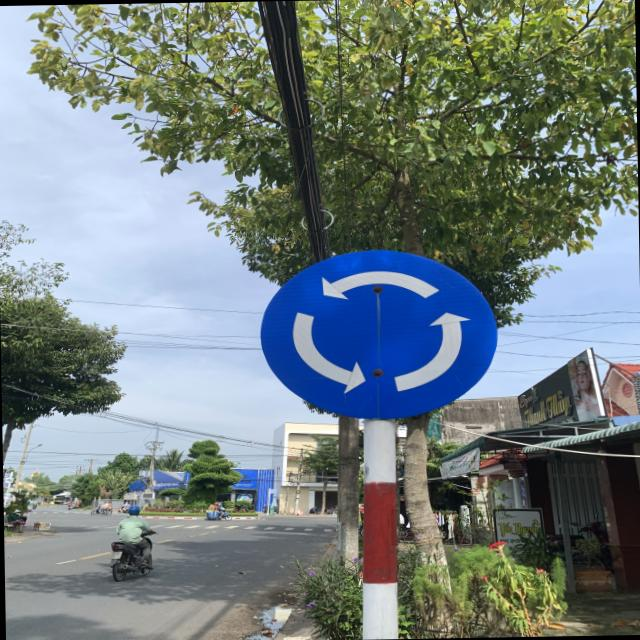Xe_Bus: (259, 248, 502, 422)
